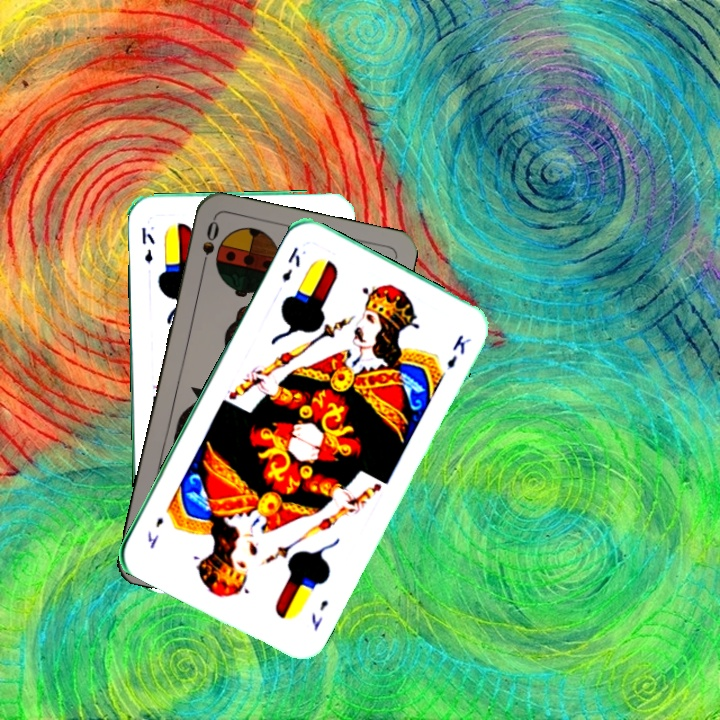EK: (278, 242, 303, 284), (307, 595, 331, 633), (137, 223, 157, 266)
SO: (197, 216, 222, 275)
